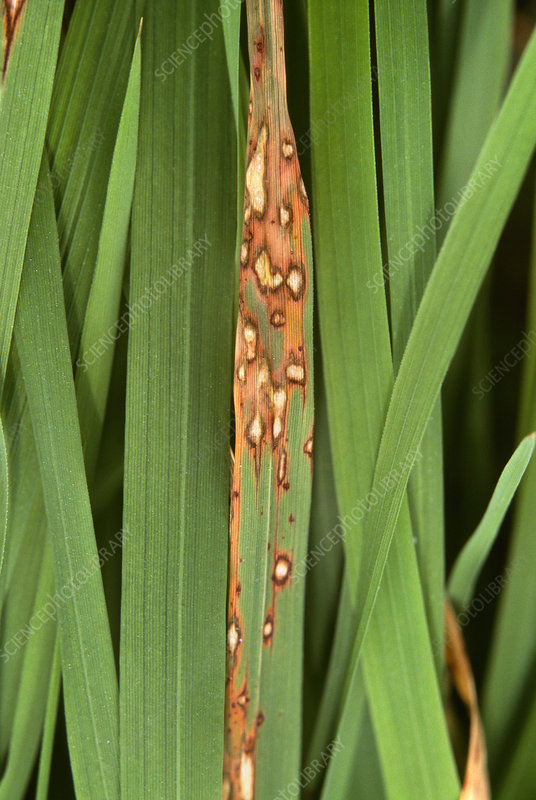Busuk Leher: (242, 118, 276, 220), (254, 355, 287, 448), (251, 241, 286, 299), (234, 742, 262, 798), (234, 314, 263, 365), (245, 408, 266, 452), (270, 549, 292, 589), (285, 261, 304, 306), (286, 357, 306, 390), (272, 449, 289, 486), (227, 615, 241, 659), (276, 198, 294, 231), (259, 617, 277, 648), (297, 174, 310, 213), (269, 305, 287, 333), (279, 134, 295, 164), (234, 684, 250, 714), (239, 239, 251, 269), (303, 433, 313, 461)
